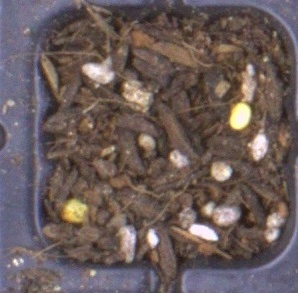chilli seed: (60, 198, 87, 223), (228, 102, 252, 130)
